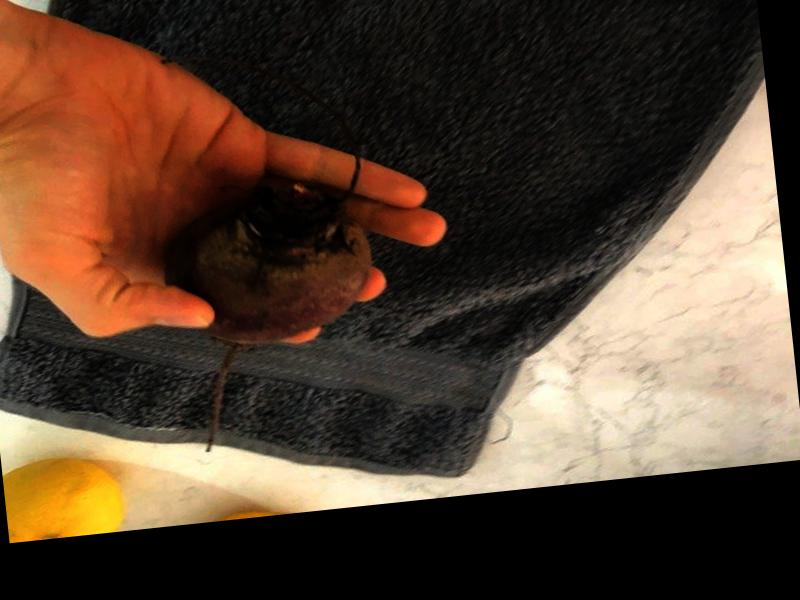Beet: (155, 168, 386, 453)
